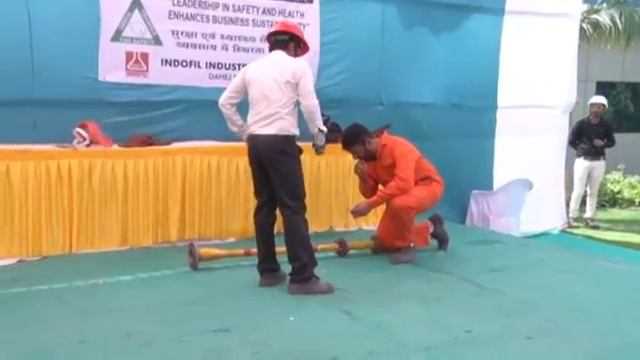helmet: (266, 20, 311, 56), (587, 94, 610, 112)
helmet_off: (341, 122, 379, 162)
helmet_on: (262, 20, 310, 62), (584, 94, 610, 123)
person: (216, 20, 339, 295), (340, 121, 451, 268), (566, 94, 617, 231)
